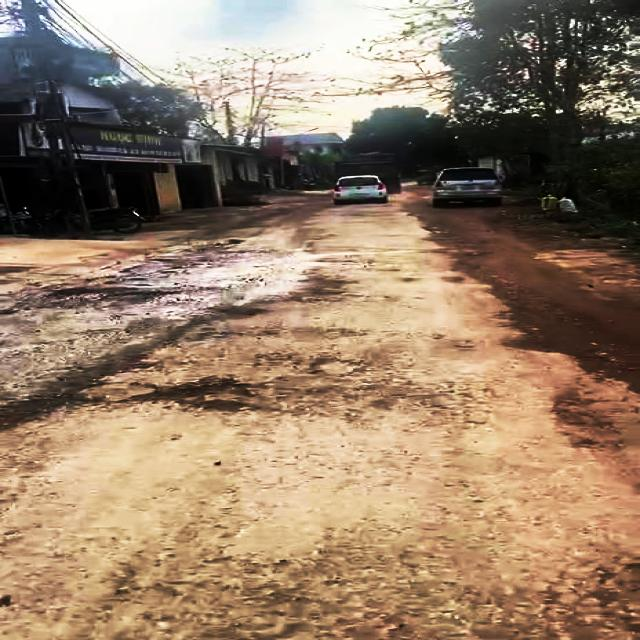pothole: (121, 378, 252, 416), (304, 356, 358, 378)
